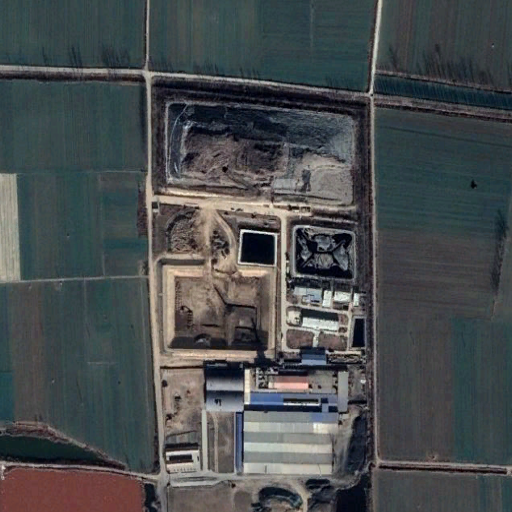lf: (162, 96, 360, 207)
